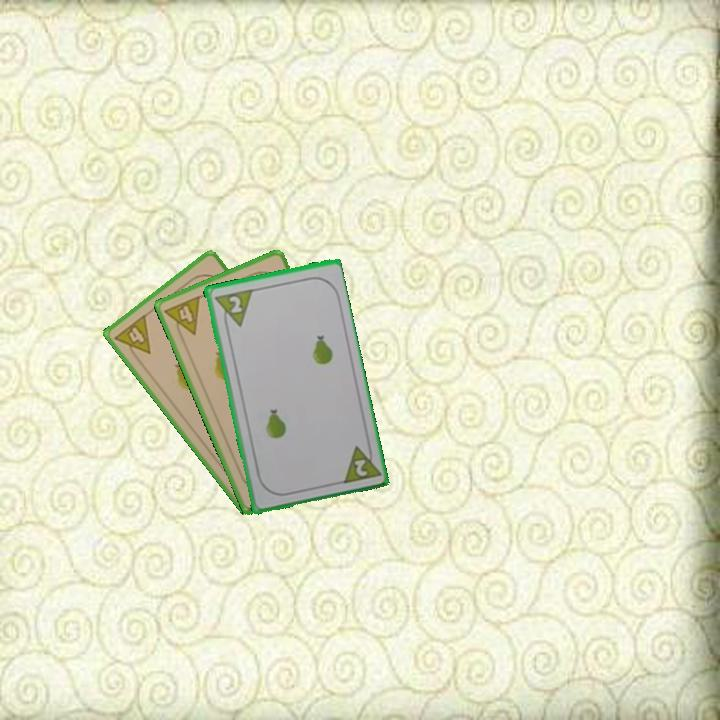2p: (338, 438, 382, 486), (210, 285, 254, 332)
4p: (111, 311, 154, 365), (161, 292, 203, 343)
